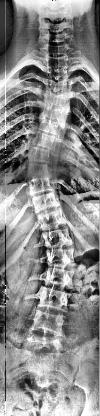Vertebrae: (30, 309, 68, 334), (40, 286, 73, 310), (41, 269, 77, 291), (24, 176, 60, 198), (30, 192, 62, 216), (29, 147, 62, 168), (46, 248, 80, 268), (38, 212, 72, 232), (43, 231, 75, 252), (36, 132, 66, 152), (26, 160, 58, 178), (40, 102, 70, 120), (41, 116, 69, 134), (43, 88, 70, 102), (44, 76, 70, 90), (48, 54, 66, 72)
